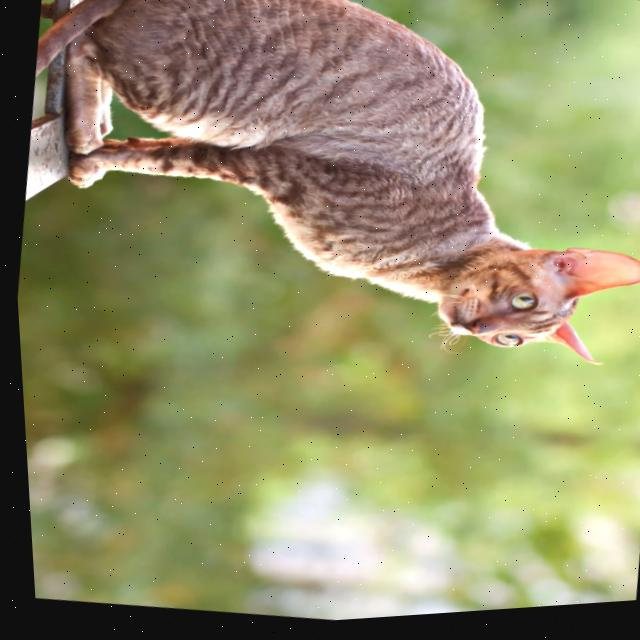Cornish Rex: (0, 0, 640, 410)
